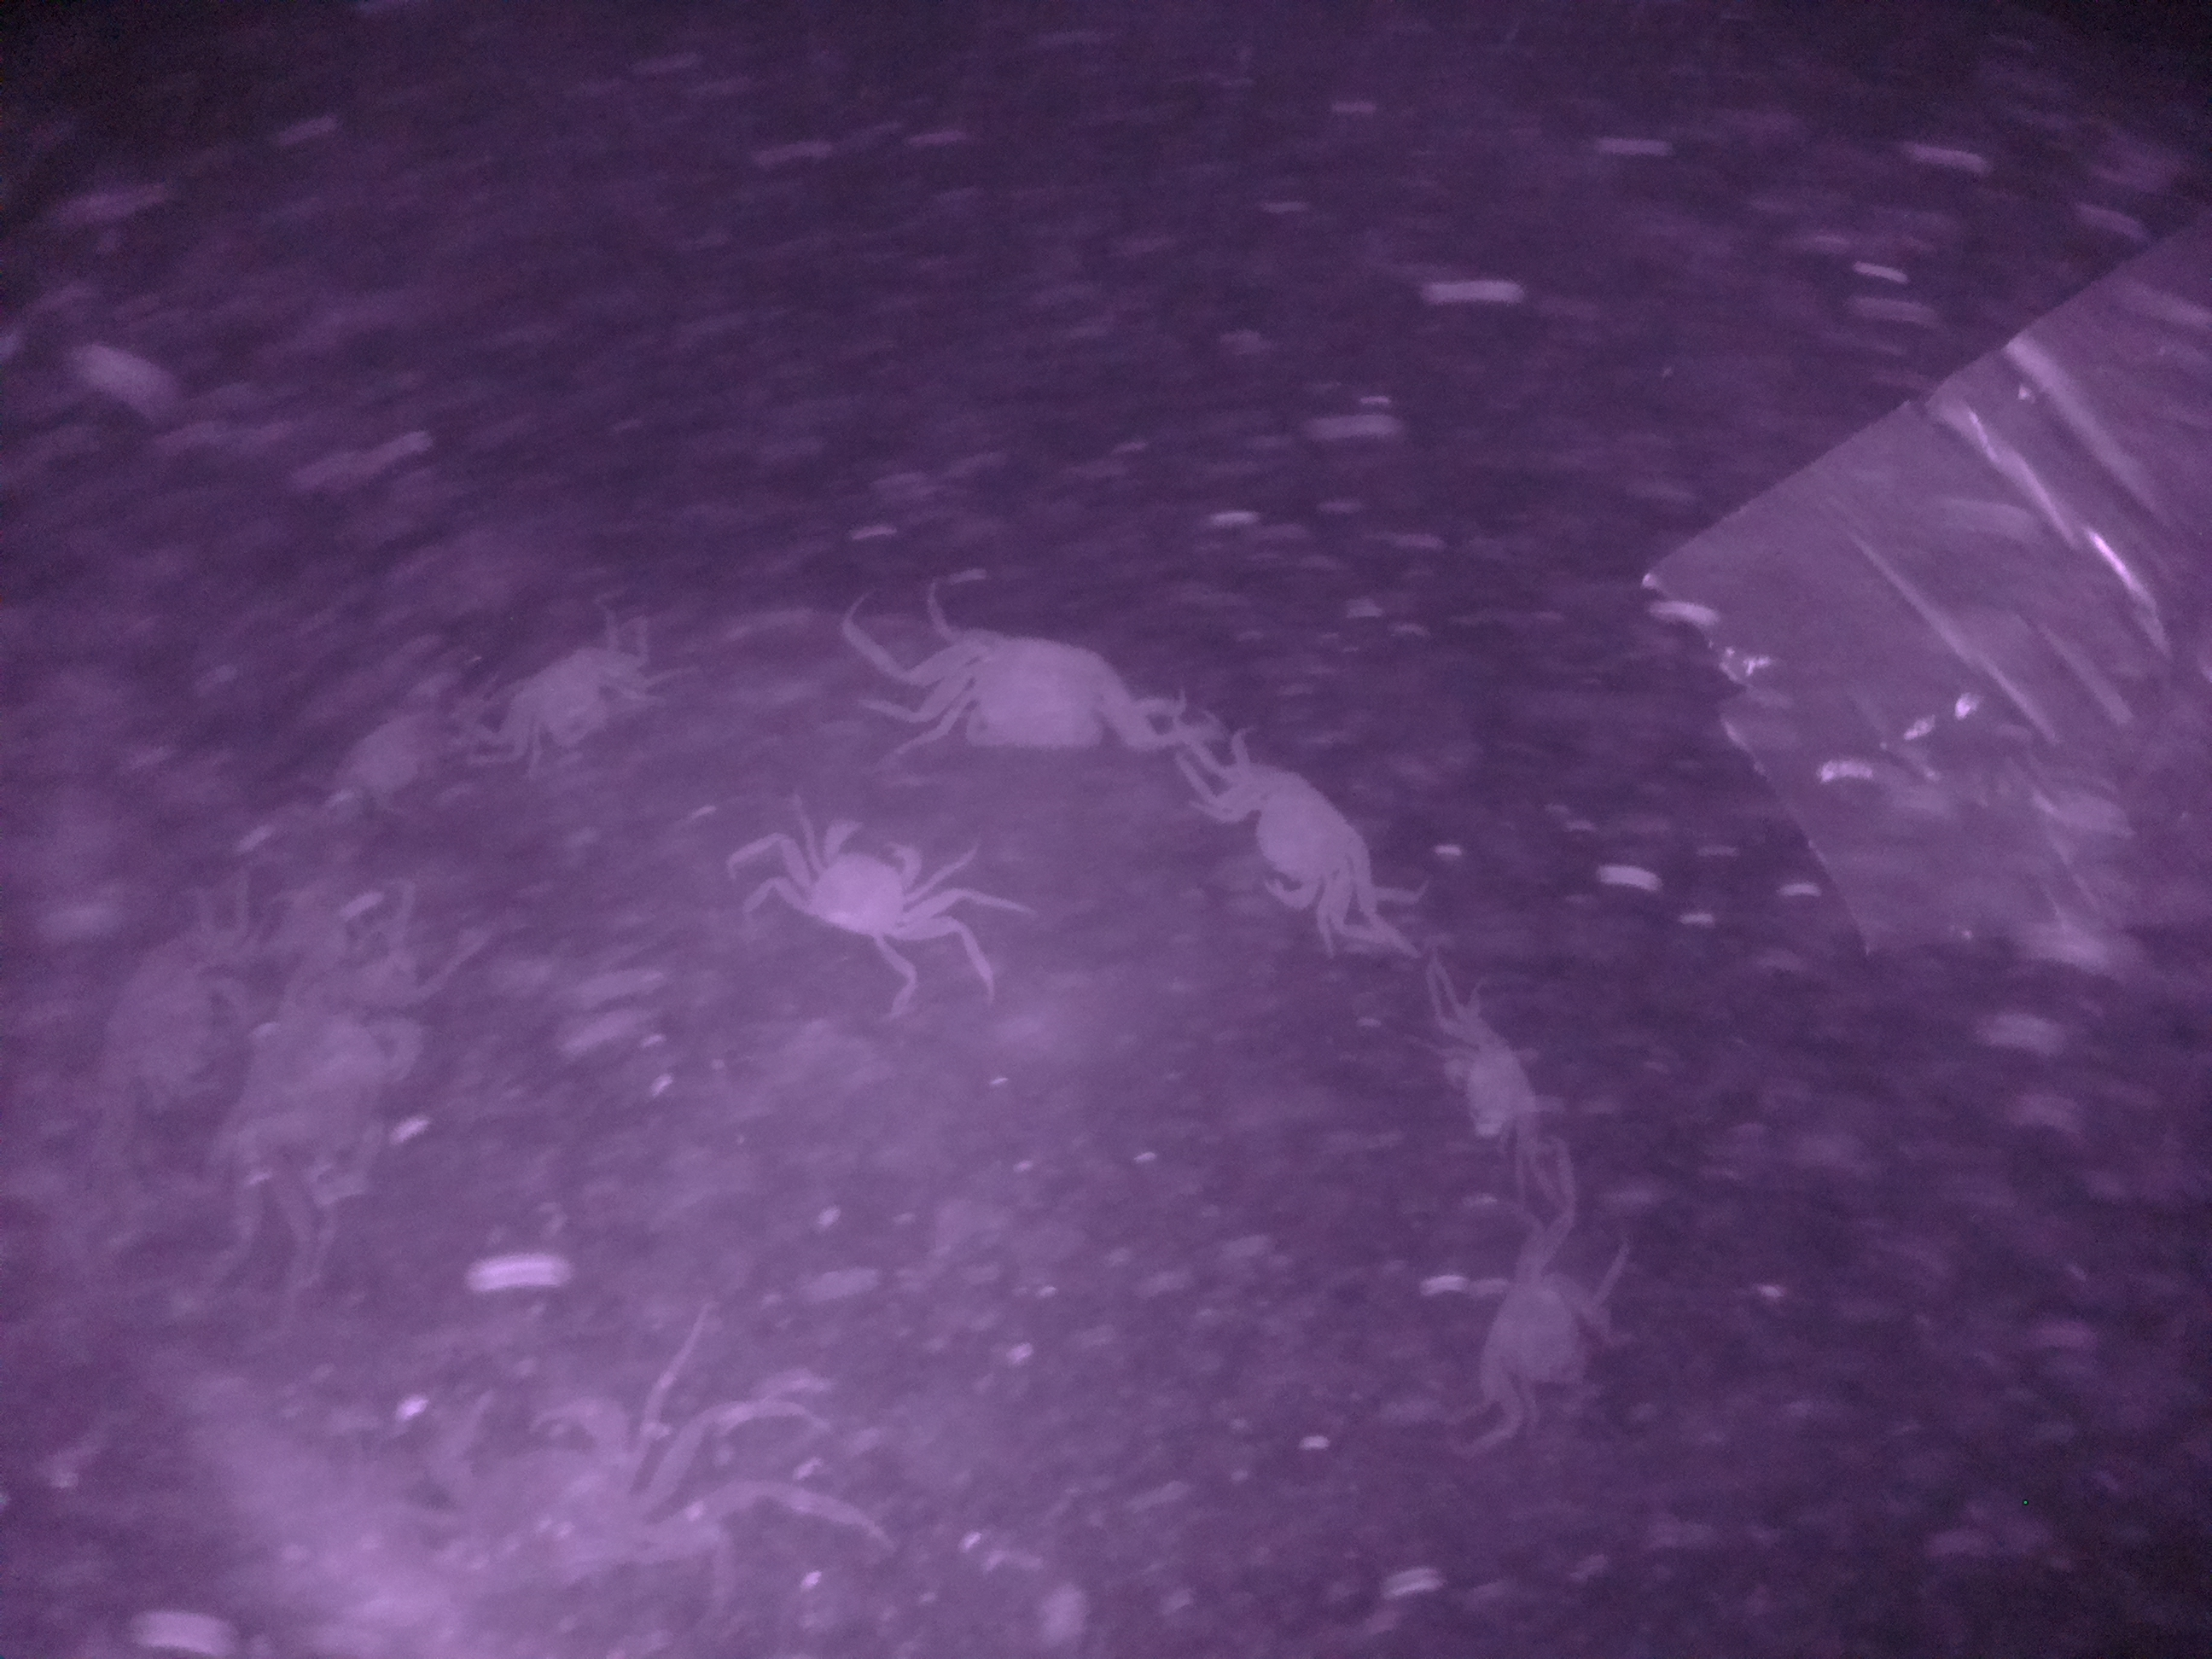Crab: (923, 617, 1148, 763), (1205, 741, 1393, 911), (773, 809, 949, 951)
